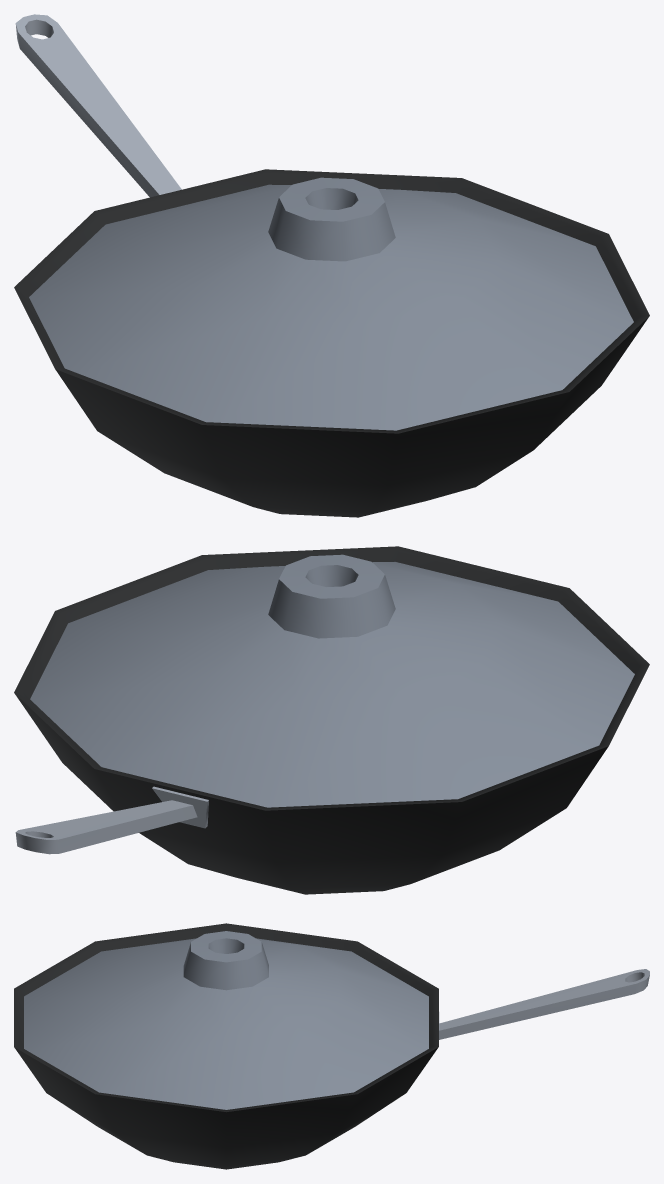
The model's file is Pan Wok.glb.
3 renders of one model, top to bottom at view 1: azimuth 30°, elevation 25°; view 2: azimuth 150°, elevation 25°; view 3: azimuth 270°, elevation 25°, orthographic. The views are drawn at different scales.
Parts seen in each view (by area): view 1: pan_wok_lid_Cylinder.097, pan_wokCylinder.165_Cylinder.096; view 2: pan_wok_lid_Cylinder.097, pan_wokCylinder.165_Cylinder.096; view 3: pan_wok_lid_Cylinder.097, pan_wokCylinder.165_Cylinder.096.
Part boxes in pixels (x1,y1,x2,y2): pan_wok_lid_Cylinder.097: (29, 177, 633, 430); pan_wokCylinder.165_Cylinder.096: (14, 14, 649, 517); pan_wok_lid_Cylinder.097: (30, 554, 634, 807); pan_wokCylinder.165_Cylinder.096: (14, 546, 649, 894); pan_wok_lid_Cylinder.097: (24, 931, 428, 1109); pan_wokCylinder.165_Cylinder.096: (14, 923, 649, 1169).
Bounding box in the file's own units: 9.39 × 4.65 × 13.37.
1 material, 1 textured.
